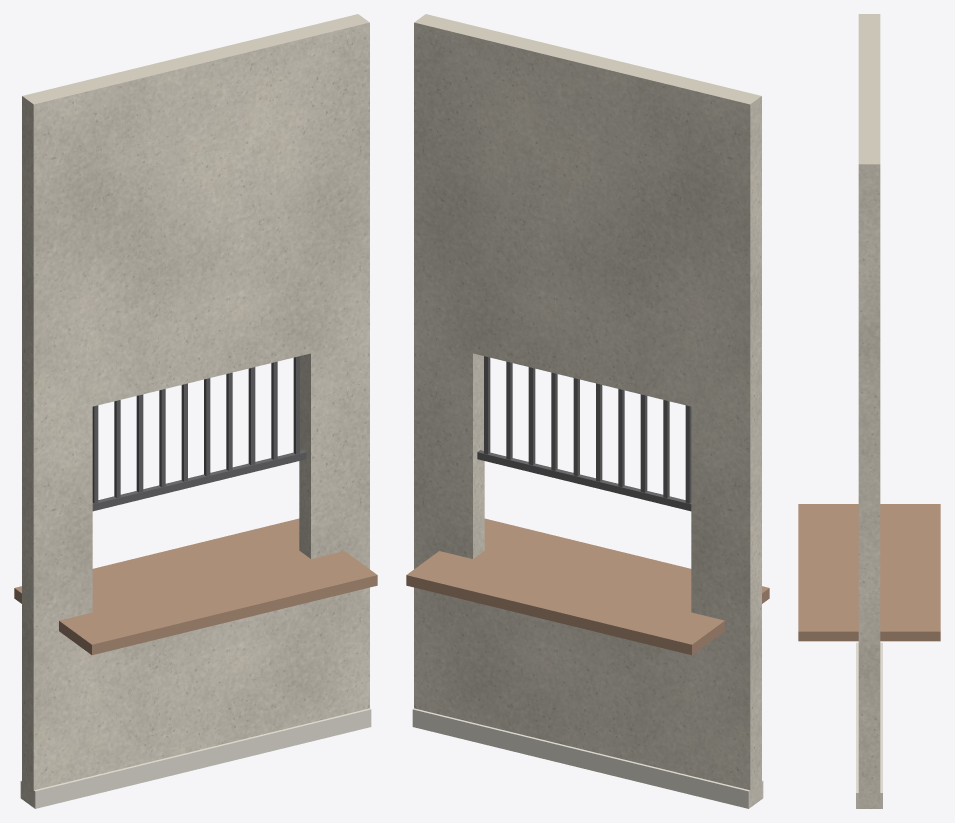
Rendered from interior_wall_counter.glb.
The picture shows the model from 3 angles, left to right: view 1: azimuth 30°, elevation 25°; view 2: azimuth 150°, elevation 25°; view 3: azimuth 270°, elevation 25°; orthographic projection. The views are drawn at different scales.
Visible parts, largest first — view 1: interior_wall_counter_plaster, interior_wall_counter_wood, interior_wall_counter_iron, interior_wall_counter_trim; view 2: interior_wall_counter_plaster, interior_wall_counter_wood, interior_wall_counter_iron, interior_wall_counter_trim; view 3: interior_wall_counter_plaster, interior_wall_counter_wood, interior_wall_counter_trim.
Boxes of the visible parts, bbox=[...] form: interior_wall_counter_plaster: bbox=[22, 14, 369, 807]; interior_wall_counter_wood: bbox=[14, 518, 377, 655]; interior_wall_counter_iron: bbox=[92, 356, 306, 511]; interior_wall_counter_trim: bbox=[20, 708, 371, 808]; interior_wall_counter_plaster: bbox=[414, 14, 761, 807]; interior_wall_counter_wood: bbox=[406, 518, 769, 655]; interior_wall_counter_iron: bbox=[477, 356, 691, 511]; interior_wall_counter_trim: bbox=[412, 708, 763, 808]; interior_wall_counter_plaster: bbox=[858, 14, 880, 808]; interior_wall_counter_wood: bbox=[798, 504, 940, 641]; interior_wall_counter_trim: bbox=[856, 642, 882, 808].
Bounding box in the file's own units: 2 × 4 × 0.8.
Materials: 4 (1 with a texture image).
